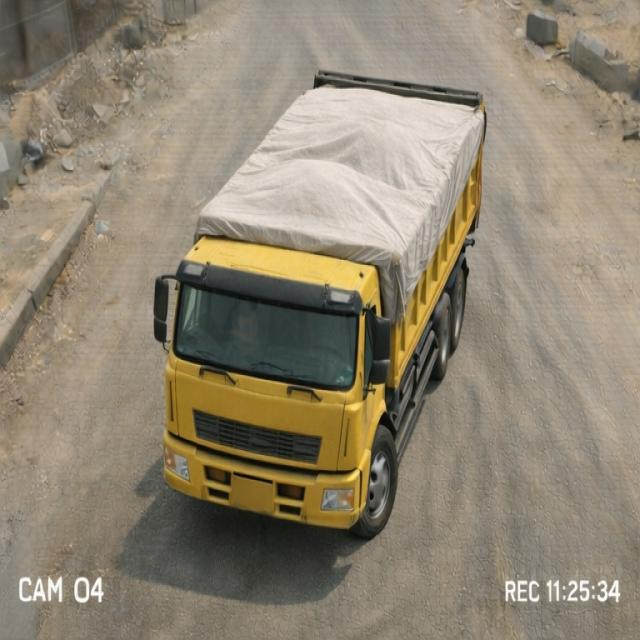trailer: (201, 68, 492, 236)
truck: (152, 58, 534, 529)
